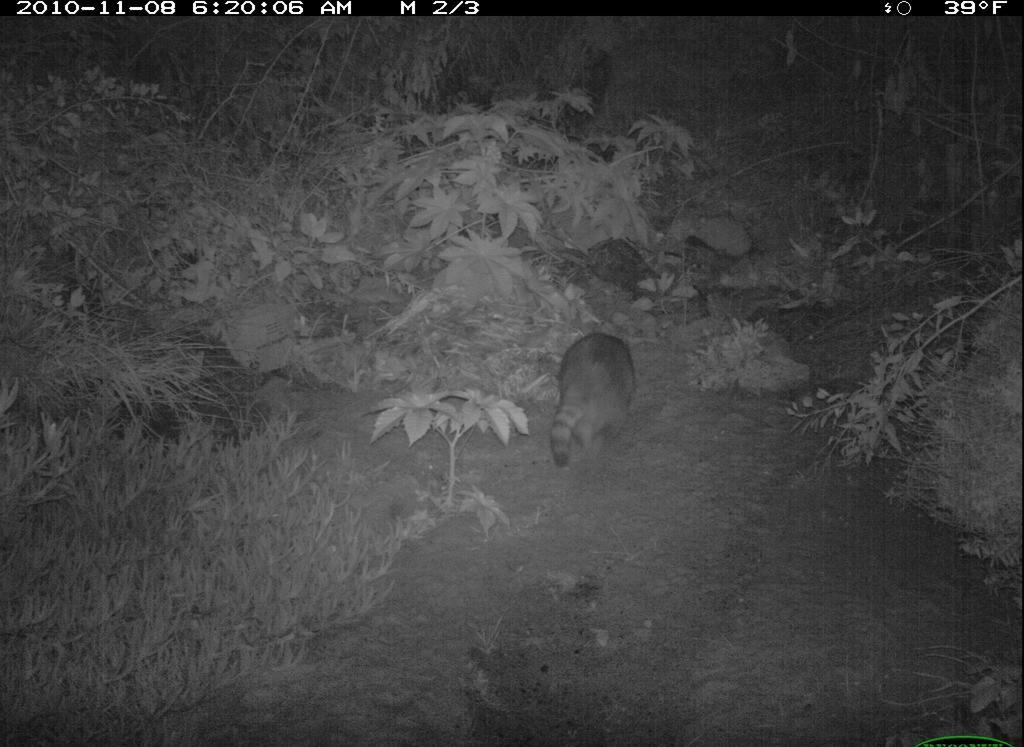raccoon: (546, 329, 644, 473)
